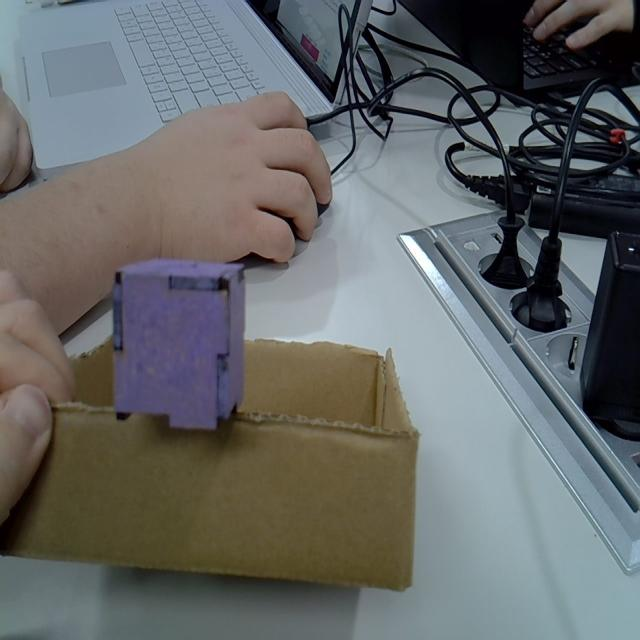purple_box: (113, 257, 242, 432)
